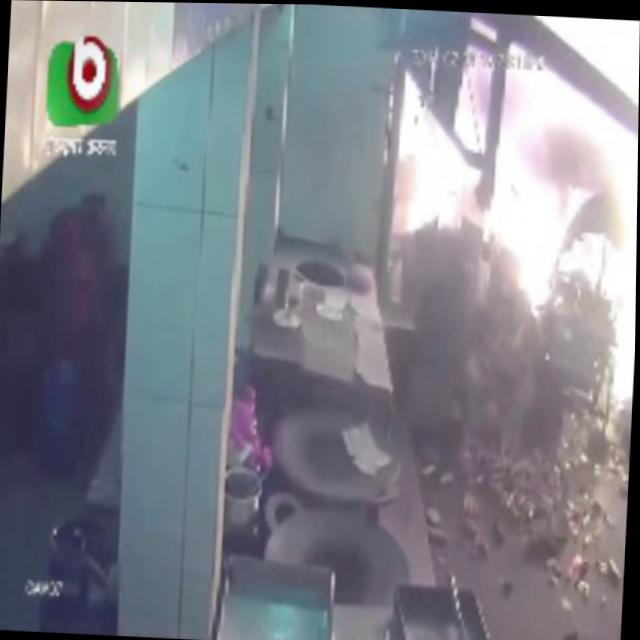fire: (481, 52, 577, 278), (565, 27, 639, 270), (395, 76, 482, 222)
